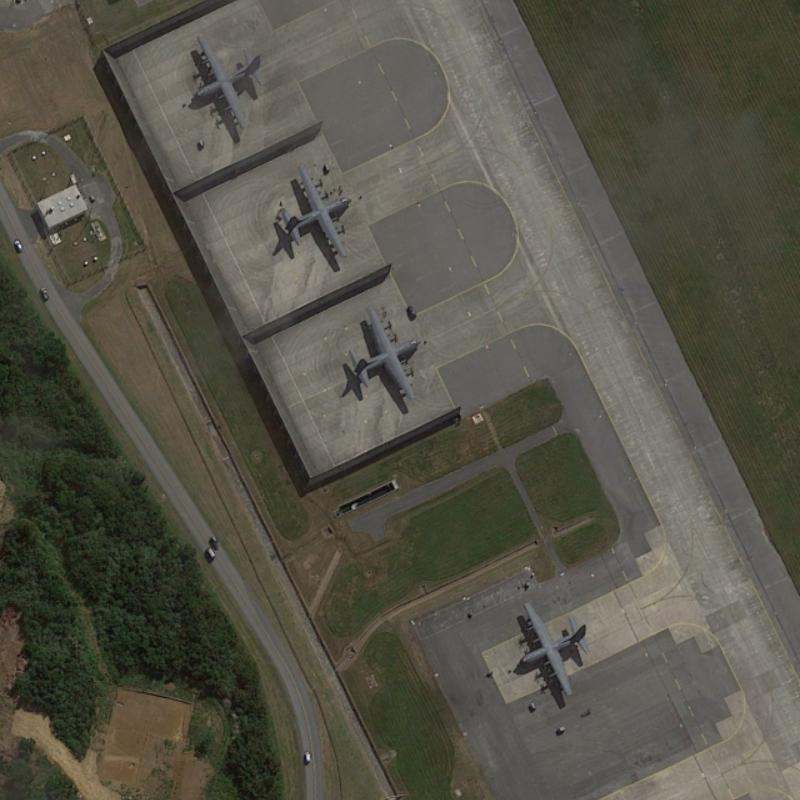A2: (174, 27, 267, 138), (264, 155, 357, 263), (508, 594, 596, 702), (337, 302, 424, 401)
